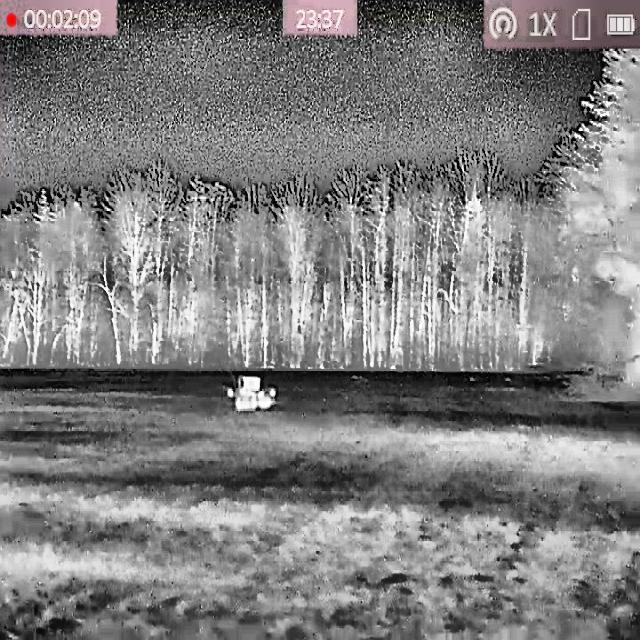drone: (226, 371, 277, 412)
